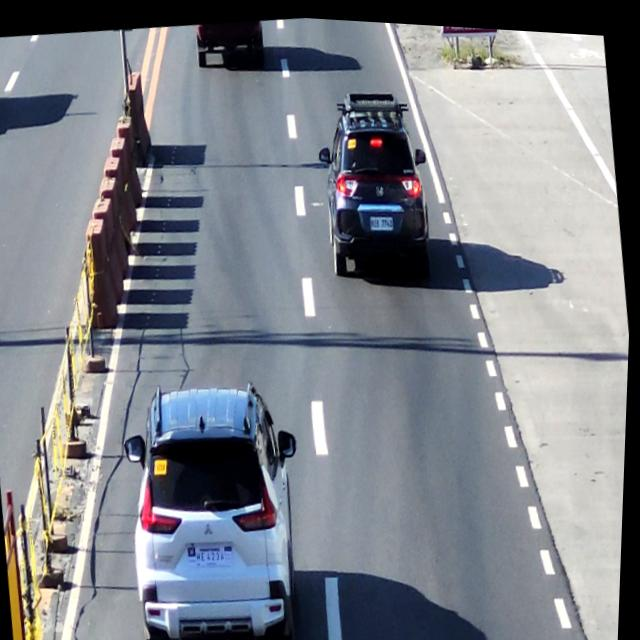Car: (117, 367, 319, 640), (312, 84, 441, 284)
License-Plate: (188, 532, 242, 569), (369, 206, 398, 232)
